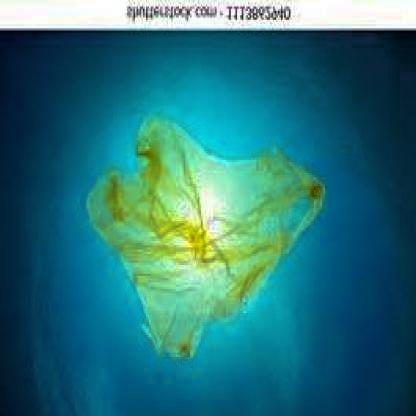pbag: (86, 116, 325, 357)
